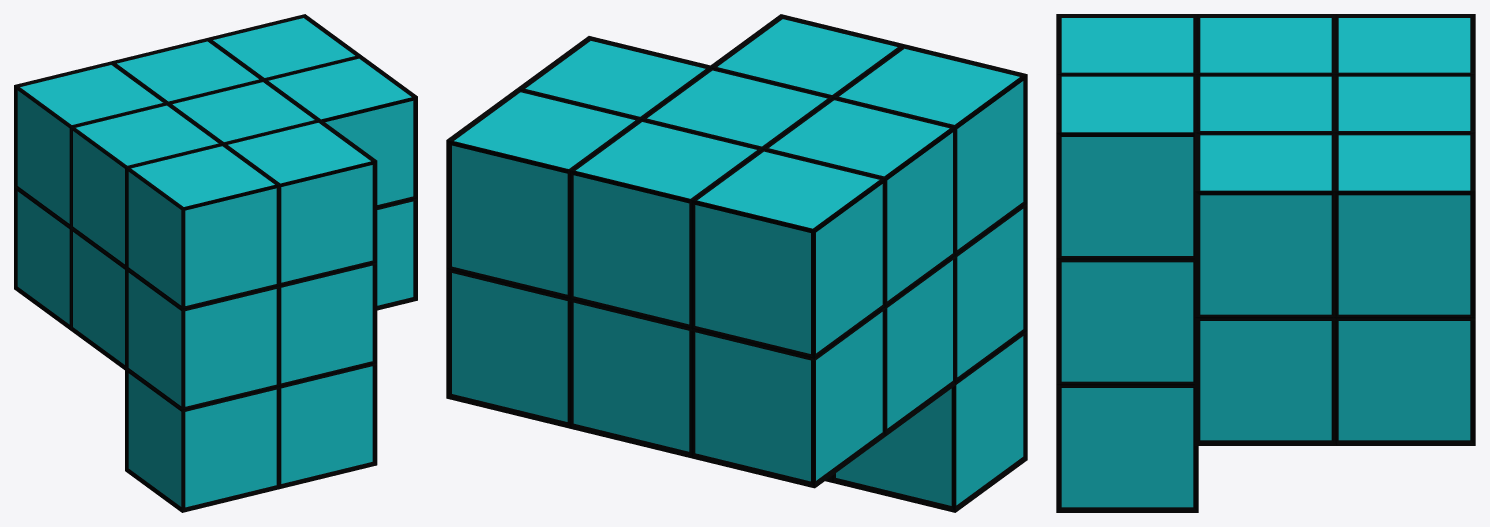
3 views of the same model, side by side, from view 1: azimuth 30°, elevation 25°; view 2: azimuth 150°, elevation 25°; view 3: azimuth 270°, elevation 25° (orthographic). The views are drawn at different scales.
Visible parts, largest first — view 1: c:Mesh; view 2: c:Mesh; view 3: c:Mesh.
Part boxes in pixels (x1=…): c:Mesh: x1=14, y1=14, x2=417, y2=512; c:Mesh: x1=446, y1=14, x2=1027, y2=512; c:Mesh: x1=1056, y1=14, x2=1475, y2=512.
Bounding box in the file's own units: 6.06 × 6.06 × 6.06.
